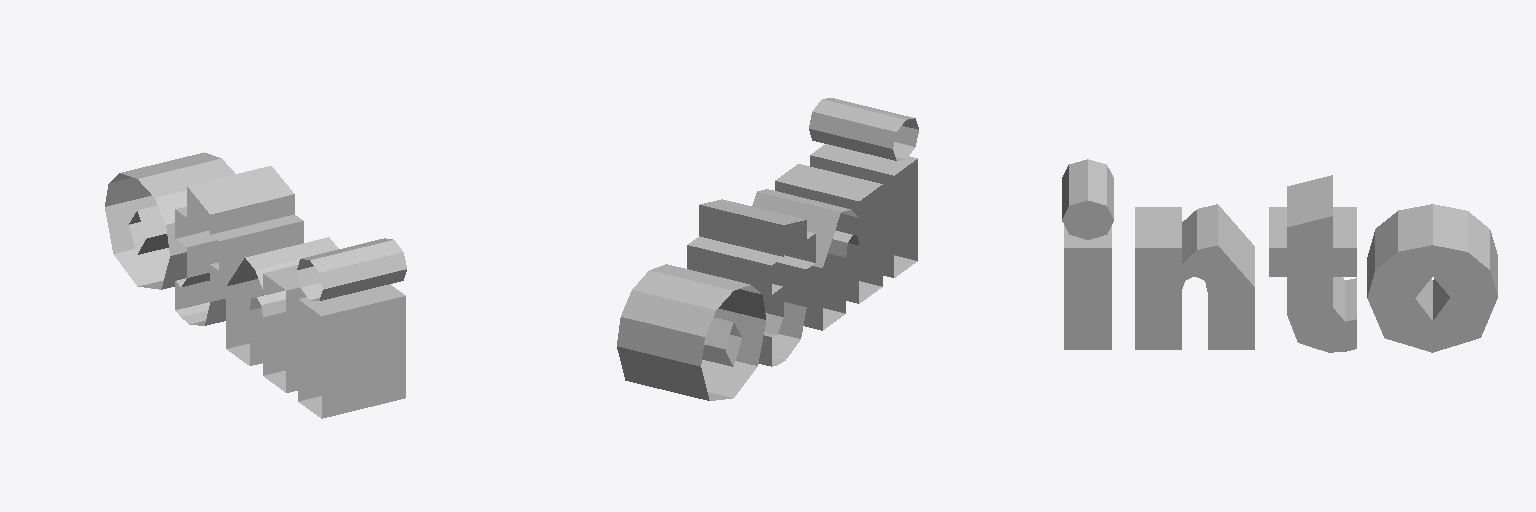
Rendered from typemesh_into.obj.
The picture shows the model from 3 angles: view 1: azimuth 30°, elevation 25°; view 2: azimuth 150°, elevation 25°; view 3: azimuth 270°, elevation 25°; orthographic projection.
Parts seen in each view (by area): view 1: typeMesh_into group2; view 2: typeMesh_into group2; view 3: typeMesh_into group2.
Boxes of the visible parts, <box> form: typeMesh_into group2: <box>105,152,406,418</box>; typeMesh_into group2: <box>617,98,918,400</box>; typeMesh_into group2: <box>1062,159,1497,352</box>.
Size of the model in its own units: 0.0946 by 0.1633 by 0.4236.